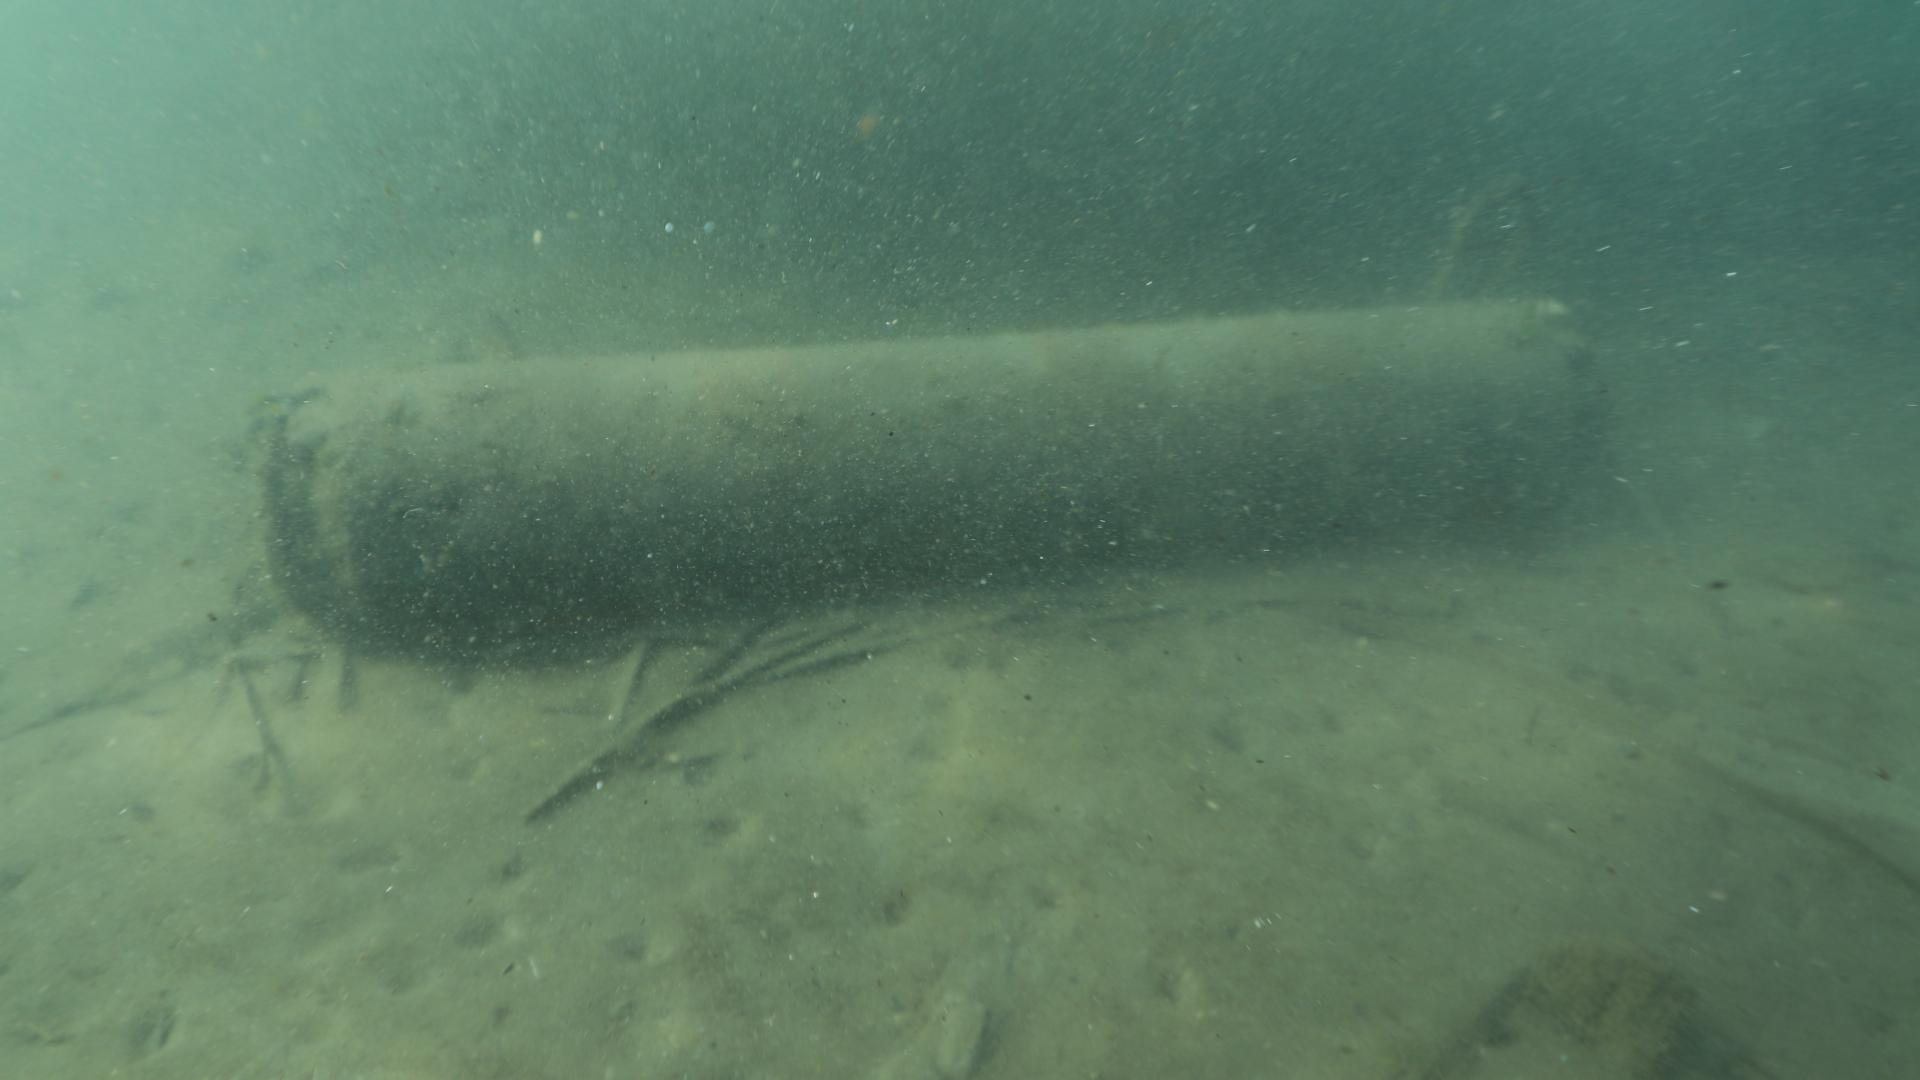eel fish trap: (261, 297, 1604, 629)
